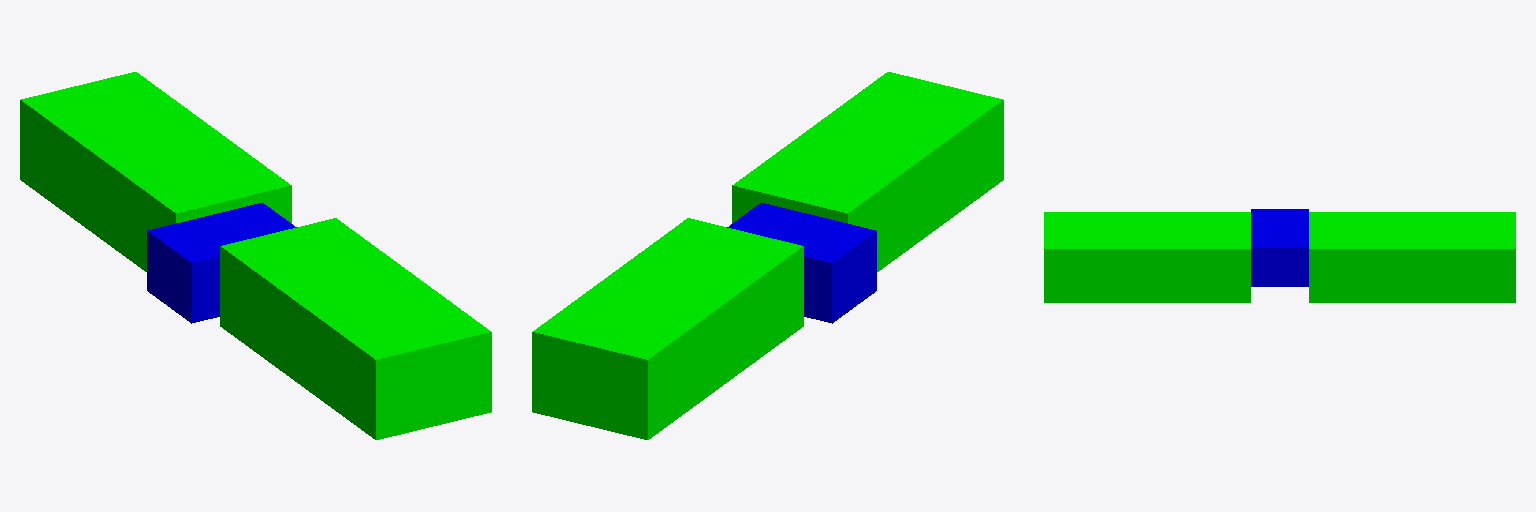
The robot description file, URDF, robot "robot":
<robot name = "robot">
    <link name="root">
        <inertial>
            <origin xyz="0.0 0.0 1.5" rpy="0 0 0"/>
            <mass value="1" />
            <inertia ixx="100" ixy="0" ixz="0" iyy="100" iyz="0" izz="100" />
        </inertial>
        <visual>
            <origin xyz="0.0 0.0 1.5" rpy="0 0 0"/>
            <geometry>
                <box size="0 0 0.0001" />
            </geometry>
            <material name="Green">
                <color rgba="0 1.0 0.0 1.0"/>
            </material>
        </visual>
        <collision>
            <origin xyz="0.0 0.0 1.5" rpy="0 0 0"/>
            <geometry>
                <box size="0 0 0.0001" />
            </geometry>
        </collision>
    </link>
    <joint name="root_000" type="revolute">
       <parent link="root"/>
       <child  link="000"/>
       <origin rpy="0 0 0" xyz="0.0 0.0 1.5" />
     <axis xyz="1 0 0"/>
       <limit effort="0.0" lower="-3.14159" upper="3.14159" velocity="0.0"/>
    </joint>
    <link name="000">
        <inertial>
            <origin xyz="0.15 0.0 0.0" rpy="0 0 0"/>
            <mass value="1" />
            <inertia ixx="100" ixy="0" ixz="0" iyy="100" iyz="0" izz="100" />
        </inertial>
        <visual>
            <origin xyz="0.15 0.0 0.0" rpy="0 0 0"/>
            <geometry>
                <box size="0.3 0.4 0.3" />
            </geometry>
            <material name="Blue">
                <color rgba="0 0.0 1.0 1.0"/>
            </material>
        </visual>
        <collision>
            <origin xyz="0.15 0.0 0.0" rpy="0 0 0"/>
            <geometry>
                <box size="0.3 0.4 0.3" />
            </geometry>
        </collision>
    </link>
    <joint name="000_010" type="revolute">
       <parent link="000"/>
       <child  link="010"/>
       <origin rpy="0 0 0" xyz="0.3 0.0 -0.0" />
     <axis xyz="1 0 0"/>
       <limit effort="0.0" lower="-3.14159" upper="3.14159" velocity="0.0"/>
    </joint>
    <link name="010">
        <inertial>
            <origin xyz="0.15 0.0 -0.0" rpy="0 0 0"/>
            <mass value="1" />
            <inertia ixx="100" ixy="0" ixz="0" iyy="100" iyz="0" izz="100" />
        </inertial>
        <visual>
            <origin xyz="0.15 0.0 -0.0" rpy="0 0 0"/>
            <geometry>
                <box size="0.3 0.4 0.3" />
            </geometry>
            <material name="Blue">
                <color rgba="0 0.0 1.0 1.0"/>
            </material>
        </visual>
        <collision>
            <origin xyz="0.15 0.0 -0.0" rpy="0 0 0"/>
            <geometry>
                <box size="0.3 0.4 0.3" />
            </geometry>
        </collision>
    </link>
    <joint name="010_010-100" type="revolute">
       <parent link="010"/>
       <child  link="010-100"/>
       <origin rpy="0 0 0" xyz="0.15 0.2 -0.0" />
     <axis xyz="0 1 0"/>
       <limit effort="0.0" lower="-3.14159" upper="3.14159" velocity="0.0"/>
    </joint>
    <link name="010-100">
        <inertial>
            <origin xyz="0.0 0.35 -0.0" rpy="0 0 0"/>
            <mass value="1" />
            <inertia ixx="100" ixy="0" ixz="0" iyy="100" iyz="0" izz="100" />
        </inertial>
        <visual>
            <origin xyz="0.0 0.35 -0.0" rpy="0 0 0"/>
            <geometry>
                <box size="0.6 0.7 0.4" />
            </geometry>
            <material name="Green">
                <color rgba="0 1.0 0.0 1.0"/>
            </material>
        </visual>
        <collision>
            <origin xyz="0.0 0.35 -0.0" rpy="0 0 0"/>
            <geometry>
                <box size="0.6 0.7 0.4" />
            </geometry>
        </collision>
    </link>
    <joint name="010-100_010-110" type="revolute">
       <parent link="010-100"/>
       <child  link="010-110"/>
       <origin rpy="0 0 0" xyz="0.0 0.7 -0.0" />
     <axis xyz="0 1 0"/>
       <limit effort="0.0" lower="-3.14159" upper="3.14159" velocity="0.0"/>
    </joint>
    <link name="010-110">
        <inertial>
            <origin xyz="0.0 0.35 -0.0" rpy="0 0 0"/>
            <mass value="1" />
            <inertia ixx="100" ixy="0" ixz="0" iyy="100" iyz="0" izz="100" />
        </inertial>
        <visual>
            <origin xyz="0.0 0.35 -0.0" rpy="0 0 0"/>
            <geometry>
                <box size="0.6 0.7 0.4" />
            </geometry>
            <material name="Green">
                <color rgba="0 1.0 0.0 1.0"/>
            </material>
        </visual>
        <collision>
            <origin xyz="0.0 0.35 -0.0" rpy="0 0 0"/>
            <geometry>
                <box size="0.6 0.7 0.4" />
            </geometry>
        </collision>
    </link>
    <joint name="010_010-101" type="revolute">
       <parent link="010"/>
       <child  link="010-101"/>
       <origin rpy="0 0 0" xyz="0.15 -0.2 -0.0" />
     <axis xyz="0 1 0"/>
       <limit effort="0.0" lower="-3.14159" upper="3.14159" velocity="0.0"/>
    </joint>
    <link name="010-101">
        <inertial>
            <origin xyz="0.0 -0.35 -0.0" rpy="0 0 0"/>
            <mass value="1" />
            <inertia ixx="100" ixy="0" ixz="0" iyy="100" iyz="0" izz="100" />
        </inertial>
        <visual>
            <origin xyz="0.0 -0.35 -0.0" rpy="0 0 0"/>
            <geometry>
                <box size="0.6 0.7 0.4" />
            </geometry>
            <material name="Green">
                <color rgba="0 1.0 0.0 1.0"/>
            </material>
        </visual>
        <collision>
            <origin xyz="0.0 -0.35 -0.0" rpy="0 0 0"/>
            <geometry>
                <box size="0.6 0.7 0.4" />
            </geometry>
        </collision>
    </link>
    <joint name="010-101_010-111" type="revolute">
       <parent link="010-101"/>
       <child  link="010-111"/>
       <origin rpy="0 0 0" xyz="0.0 -0.7 -0.0" />
     <axis xyz="0 1 0"/>
       <limit effort="0.0" lower="-3.14159" upper="3.14159" velocity="0.0"/>
    </joint>
    <link name="010-111">
        <inertial>
            <origin xyz="0.0 -0.35 -0.0" rpy="0 0 0"/>
            <mass value="1" />
            <inertia ixx="100" ixy="0" ixz="0" iyy="100" iyz="0" izz="100" />
        </inertial>
        <visual>
            <origin xyz="0.0 -0.35 -0.0" rpy="0 0 0"/>
            <geometry>
                <box size="0.6 0.7 0.4" />
            </geometry>
            <material name="Green">
                <color rgba="0 1.0 0.0 1.0"/>
            </material>
        </visual>
        <collision>
            <origin xyz="0.0 -0.35 -0.0" rpy="0 0 0"/>
            <geometry>
                <box size="0.6 0.7 0.4" />
            </geometry>
        </collision>
    </link>
</robot>

--- What the picture shows (computed from the rendered views, not written in the file) ---
The picture shows the robot from 3 angles, left to right: view 1: azimuth 30°, elevation 25°; view 2: azimuth 150°, elevation 25°; view 3: azimuth 270°, elevation 25°; orthographic projection.
Model robot with 7 links and 6 joints (6 revolute), rooted at root, posed all joints at 0.
Visible links, largest first — view 1: 010-111, 010-101, 010-110, 010-100, 000, 010; view 2: 010-110, 010-100, 010-111, 010-101, 000, 010; view 3: 010-110, 010-111, 010-100, 010-101, 010, 000.
Link boxes in pixels (x1=…): 010-111: x1=298, y1=275, x2=491, y2=439; 010-101: x1=220, y1=218, x2=412, y2=382; 010-110: x1=20, y1=72, x2=212, y2=236; 010-100: x1=98, y1=128, x2=291, y2=271; 000: x1=147, y1=217, x2=238, y2=323; 010: x1=205, y1=203, x2=296, y2=240; 010-110: x1=532, y1=275, x2=725, y2=439; 010-100: x1=611, y1=218, x2=803, y2=382; 010-111: x1=811, y1=72, x2=1003, y2=236; 010-101: x1=732, y1=128, x2=925, y2=271; 000: x1=785, y1=217, x2=876, y2=323; 010: x1=727, y1=203, x2=818, y2=240; 010-110: x1=1412, y1=212, x2=1515, y2=302; 010-111: x1=1044, y1=212, x2=1147, y2=302; 010-100: x1=1309, y1=212, x2=1411, y2=302; 010-101: x1=1148, y1=212, x2=1250, y2=302; 010: x1=1251, y1=228, x2=1308, y2=286; 000: x1=1251, y1=209, x2=1308, y2=227.
Size in the robot's own frame: 0.75 by 3.2 by 0.4 metres.
Geometry: primitives only (box / cylinder / sphere), no mesh files.
